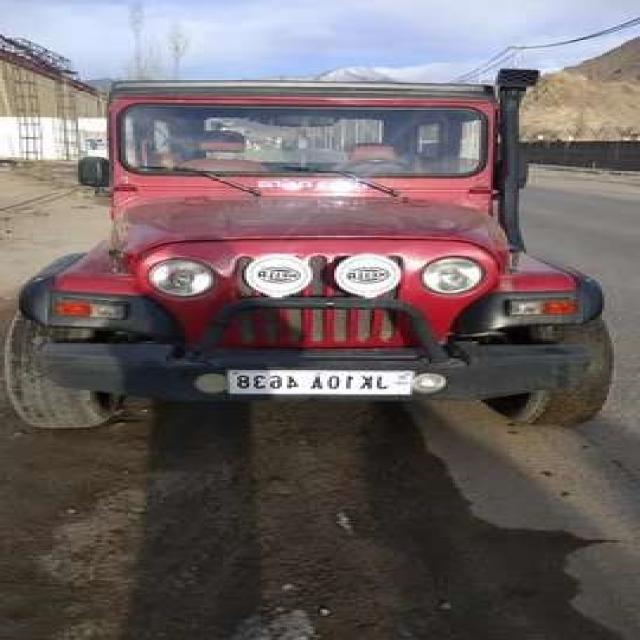license_plate: (216, 365, 427, 408)
